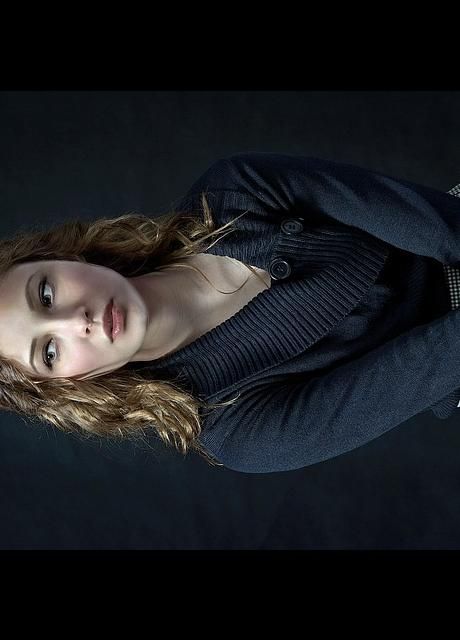Non_Gorille: (0, 90, 460, 505)
